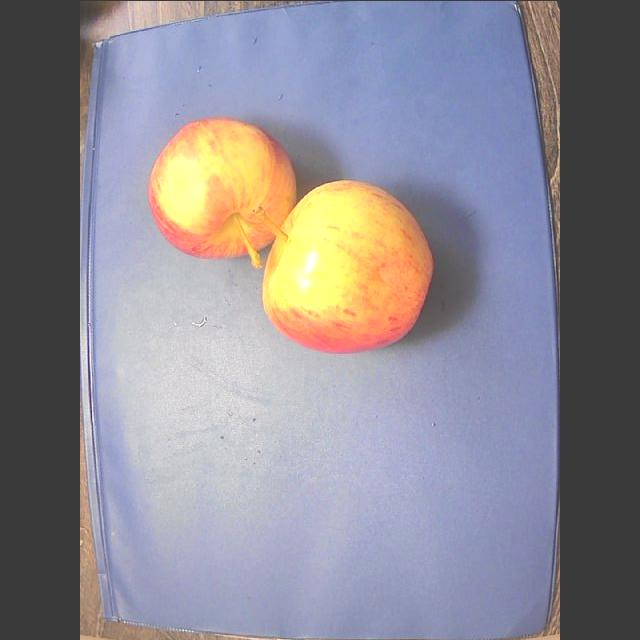manzana: (263, 180, 432, 352), (148, 117, 295, 267)
